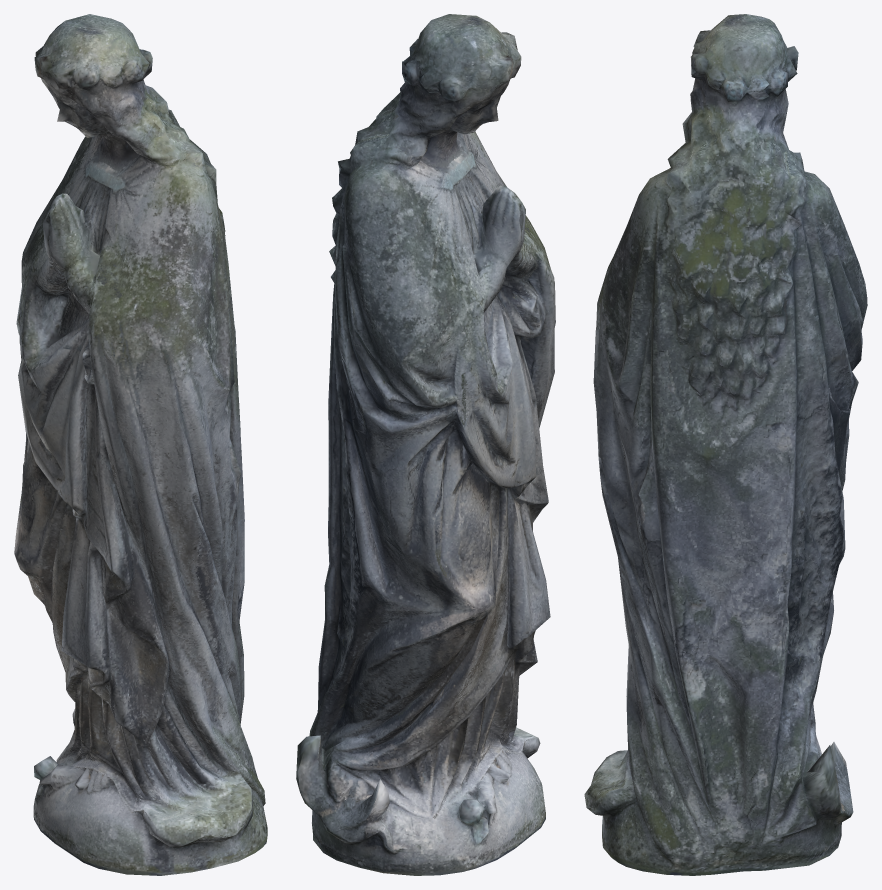
Rendered from sm_GraveSculpture_06_02.fbx.
3 renders of one model, left to right at view 1: azimuth 30°, elevation 25°; view 2: azimuth 150°, elevation 25°; view 3: azimuth 270°, elevation 25°, orthographic. The views are drawn at different scales.
Visible parts, largest first — view 1: sm_GraveSculpture_06_02_LOD0; view 2: sm_GraveSculpture_06_02_LOD0; view 3: sm_GraveSculpture_06_02_LOD0.
Part boxes in pixels (x1=…): sm_GraveSculpture_06_02_LOD0: x1=14, y1=14, x2=267, y2=875; sm_GraveSculpture_06_02_LOD0: x1=296, y1=14, x2=555, y2=875; sm_GraveSculpture_06_02_LOD0: x1=584, y1=14, x2=867, y2=875.
Size of the model in its own units: 53.47 by 70.84 by 218.
